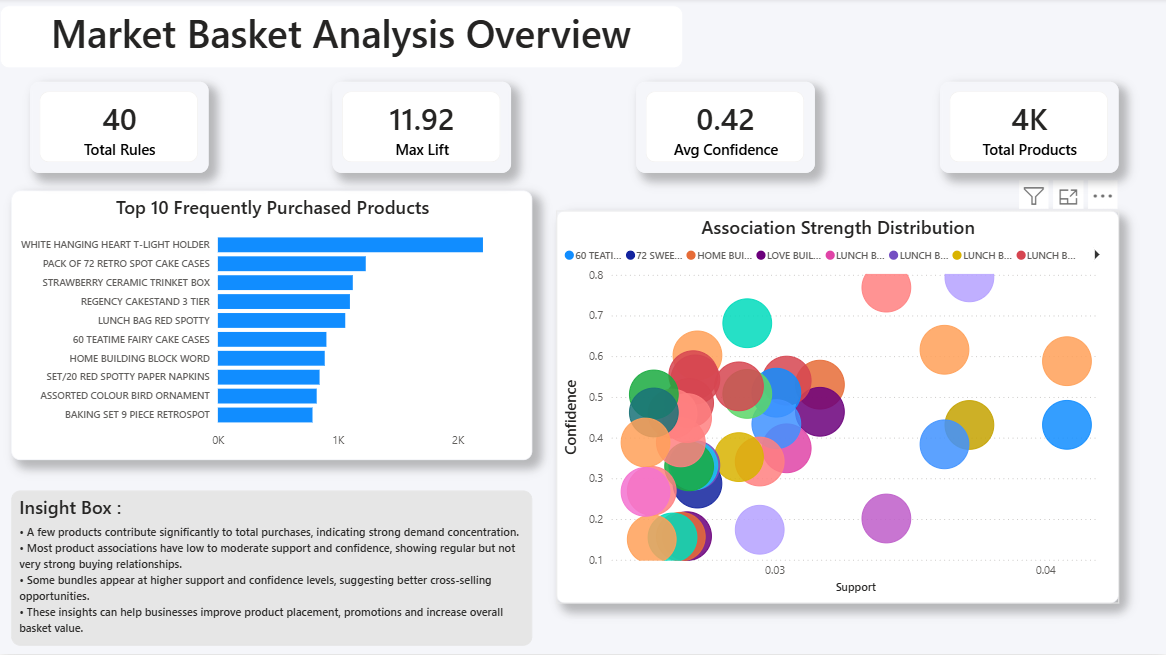

This screenshot's page, from the dashboard's own definition file:
{"tool":"powerbi","page":{"name":"Basket Overview","canvas":[1280,720],"ordinal":0},"visuals":[{"type":"textbox","box":[0,8.2,749.2,68.6],"z":0},{"type":"clusteredBarChart","title":"Top 10 Frequently Purchased Products","fields":{"Category":["product_frequency.Product Name"],"Y":["Sum(product_frequency.Frequency)"]},"box":[12.3,211.3,572.2,296.4],"z":1000},{"type":"scatterChart","title":"Association Strength Distribution","fields":{"X":["association_rules.support"],"Y":["association_rules.confidence"],"Size":["CountNonNull(association_rules.lift)"],"Series":["association_rules.Consequent"]},"box":[610.6,233.3,617.5,430.9],"z":2000},{"type":"textbox","title":"Insight Box :","box":[12.3,540.7,572.2,170.2],"z":3000},{"type":"cardVisual","fields":{"Data":["product_frequency.Total Products"]},"box":[1031.4,92.2,196.2,100],"z":4000},{"type":"cardVisual","fields":{"Data":["association_rules.Avg Confidence"]},"box":[698.4,92.2,196.2,100],"z":5000},{"type":"cardVisual","fields":{"Data":["association_rules.Max Lift"]},"box":[365.4,92.2,196.2,100],"z":6000},{"type":"cardVisual","fields":{"Data":["association_rules.Total Rules"]},"box":[32.4,92.2,196.2,100],"z":7000}]}

Visuals, with their boxes in screenshot pixels (x1, y1, x2, y2), scaled from the page's 1280x720 canvas onto the 1166x655 screenshot:
textbox: [x1=0, y1=7, x2=682, y2=70]
"Top 10 Frequently Purchased Products" clusteredBarChart: [x1=11, y1=192, x2=532, y2=462]
"Association Strength Distribution" scatterChart: [x1=556, y1=212, x2=1119, y2=604]
"Insight Box :" textbox: [x1=11, y1=492, x2=532, y2=647]
cardVisual - product_frequency.Total Products: [x1=940, y1=84, x2=1118, y2=175]
cardVisual - association_rules.Avg Confidence: [x1=636, y1=84, x2=815, y2=175]
cardVisual - association_rules.Max Lift: [x1=333, y1=84, x2=512, y2=175]
cardVisual - association_rules.Total Rules: [x1=30, y1=84, x2=208, y2=175]
